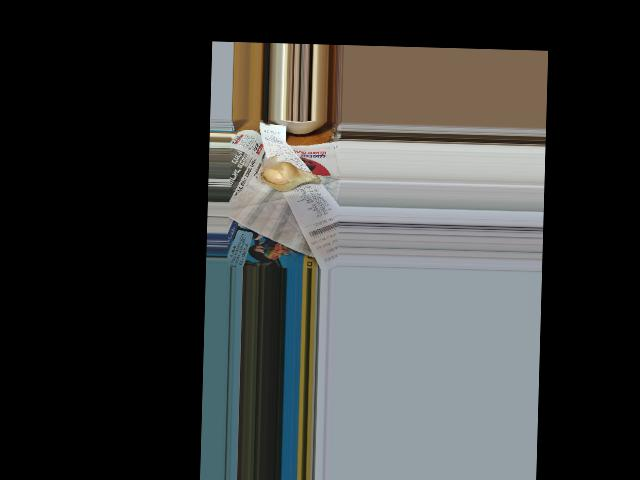onion: (261, 162, 316, 190)
